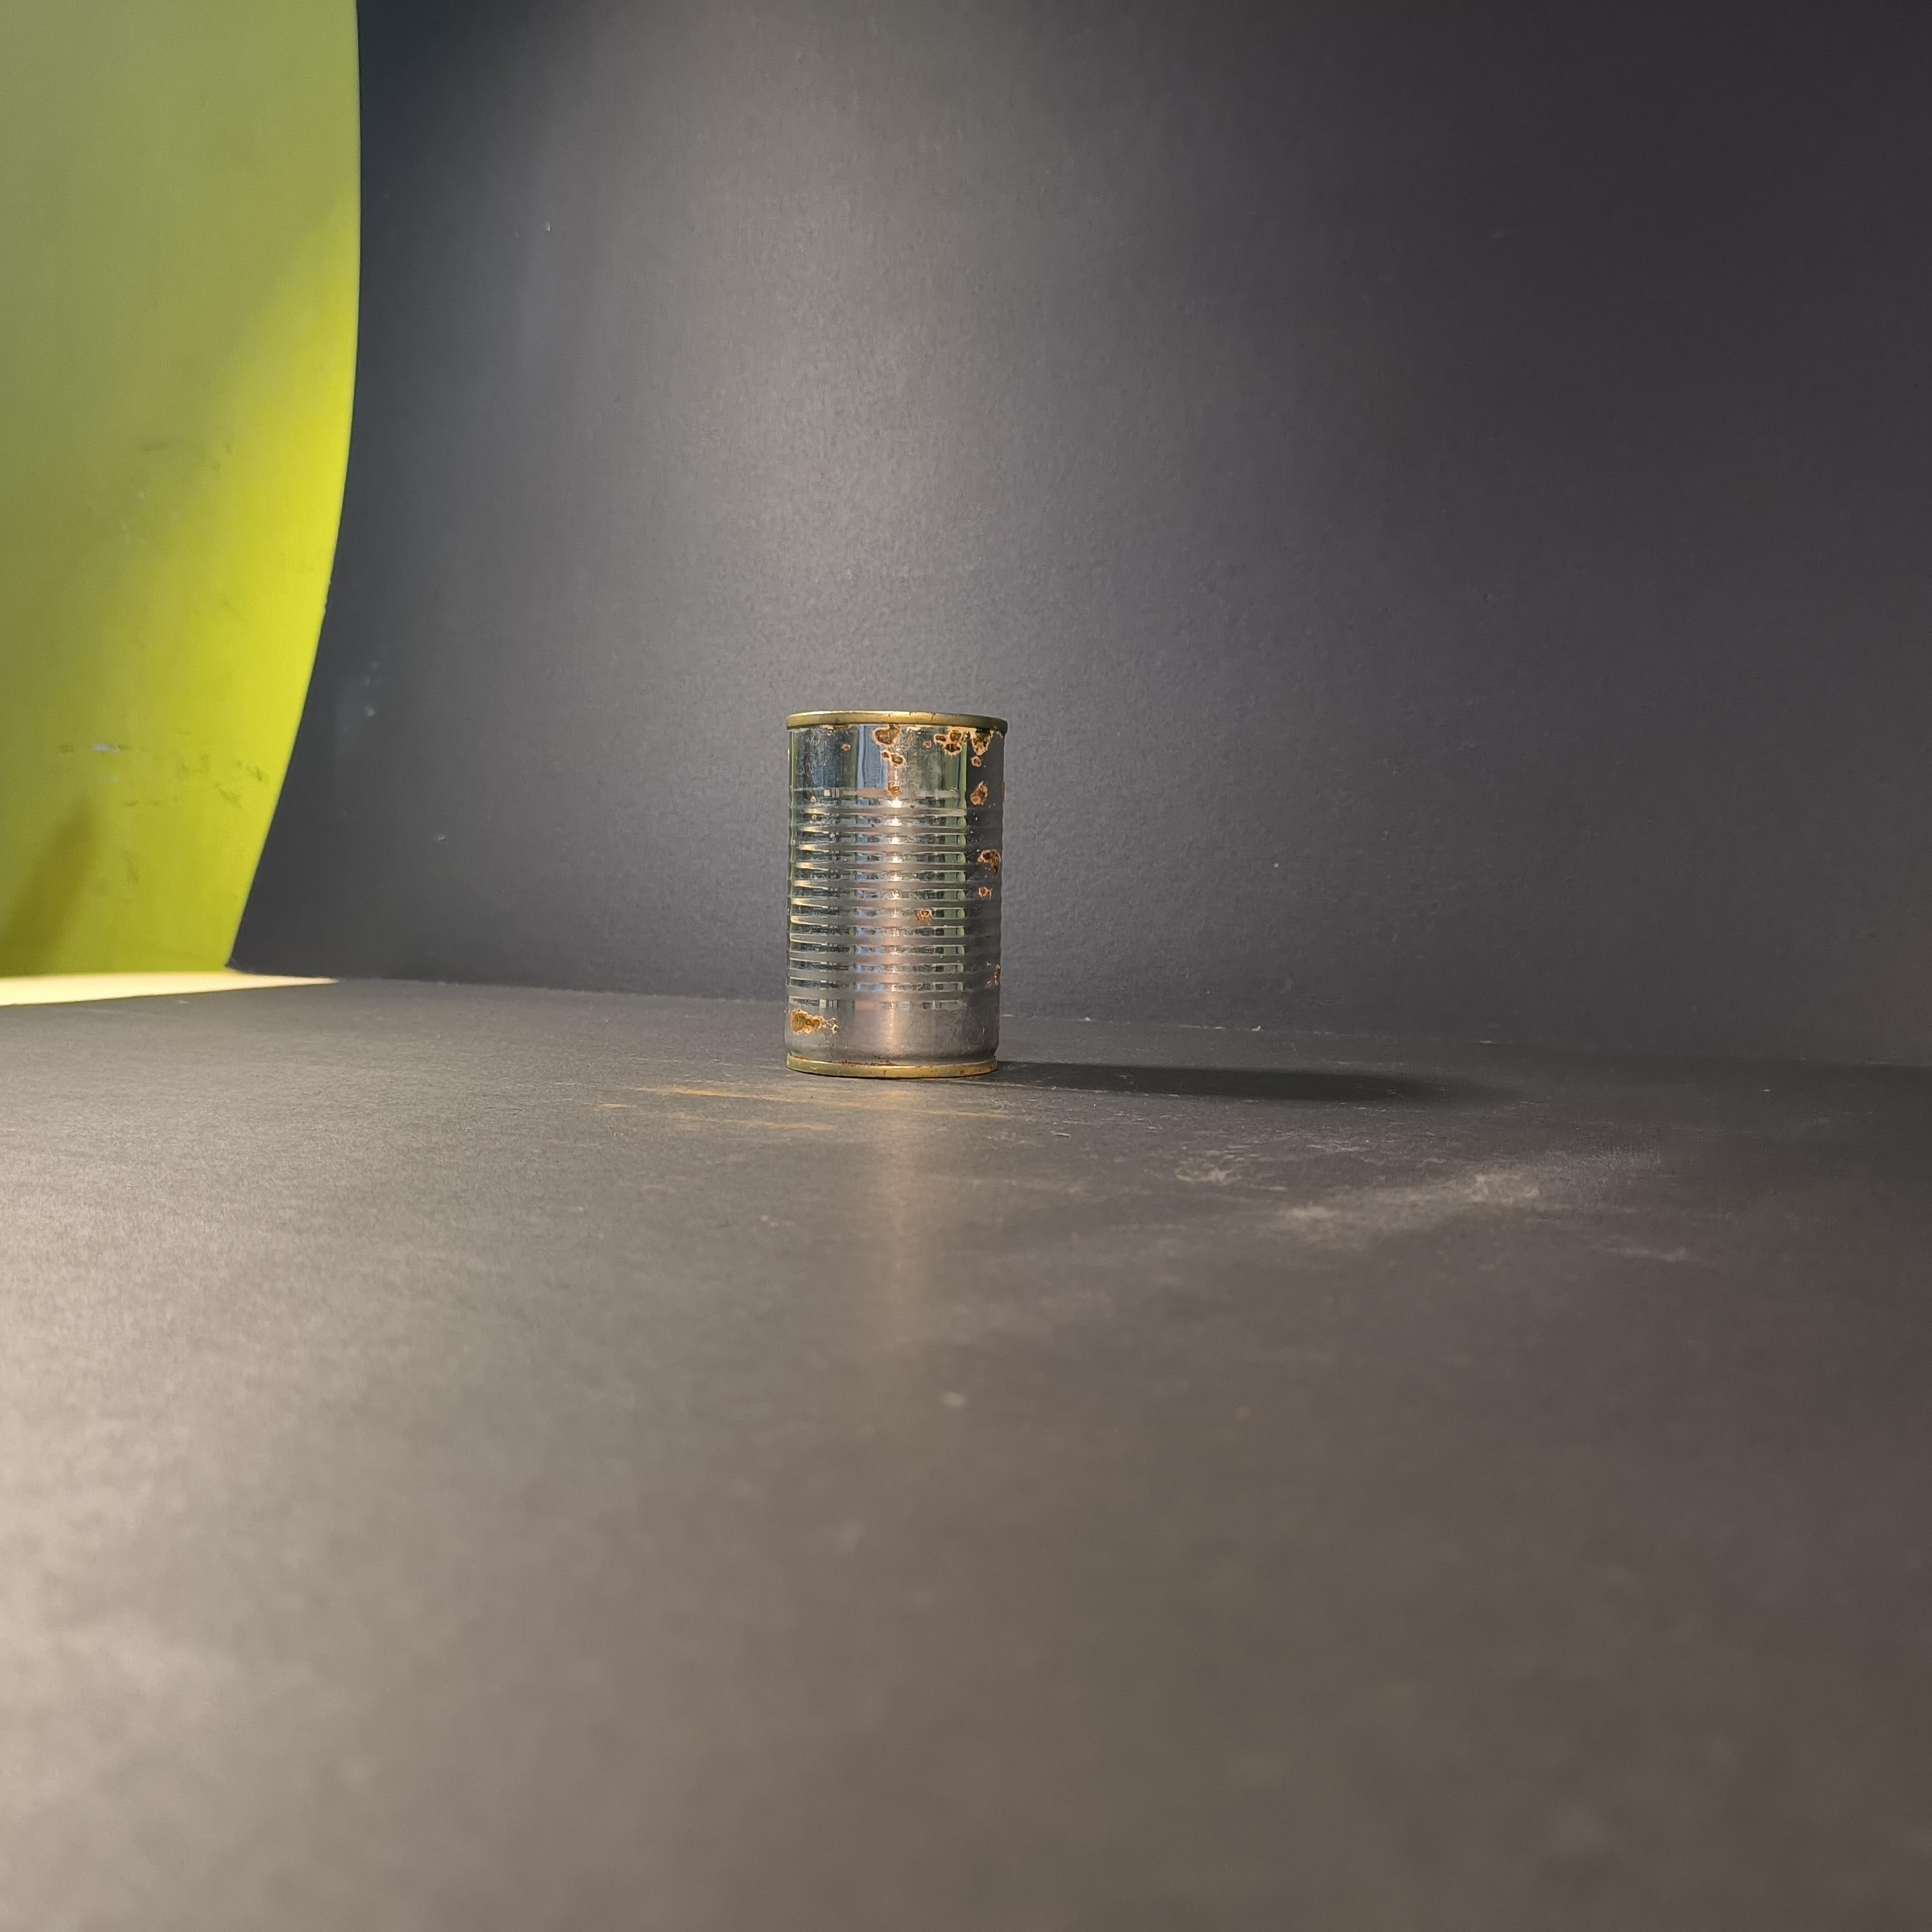Rusted: (763, 676, 1019, 1093)
